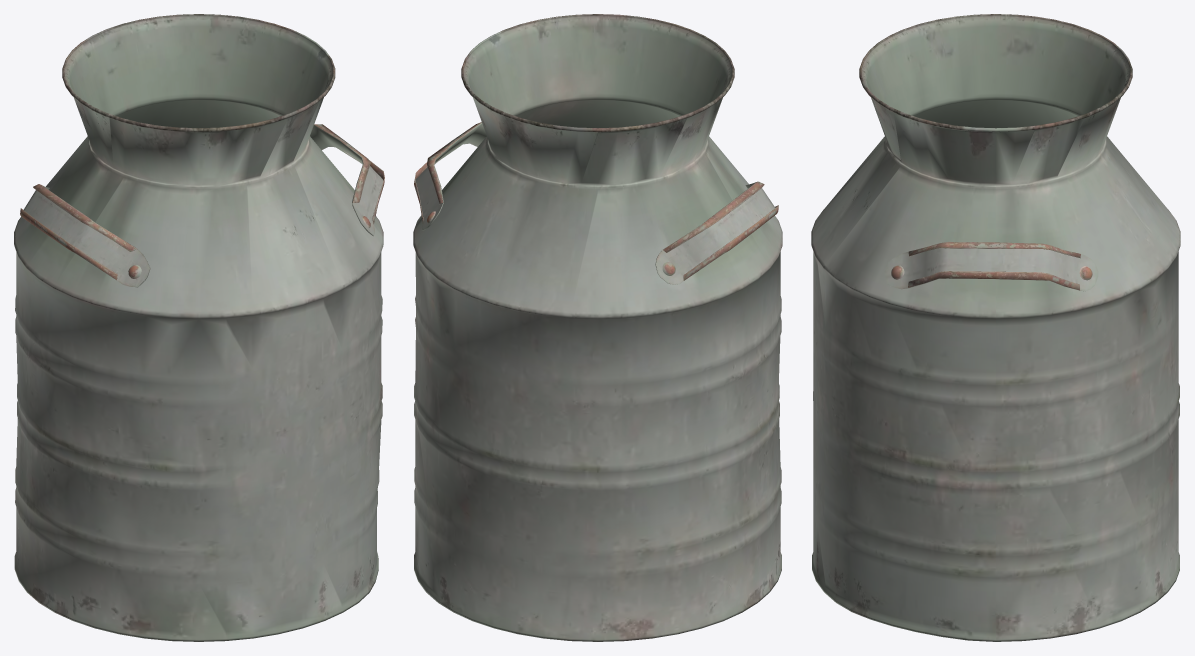
Rendered from metal_jug.glb.
3 views of the same model, side by side, from view 1: azimuth 30°, elevation 25°; view 2: azimuth 150°, elevation 25°; view 3: azimuth 270°, elevation 25° (orthographic).
Parts seen in each view (by area): view 1: metal_jug; view 2: metal_jug; view 3: metal_jug.
Boxes of the visible parts, <box> form: metal_jug: <box>14,14,384,641</box>; metal_jug: <box>413,14,782,641</box>; metal_jug: <box>811,14,1180,641</box>.
Size of the model in its own units: 0.1968 by 0.2875 by 0.1955.
1 material, 1 textured.
